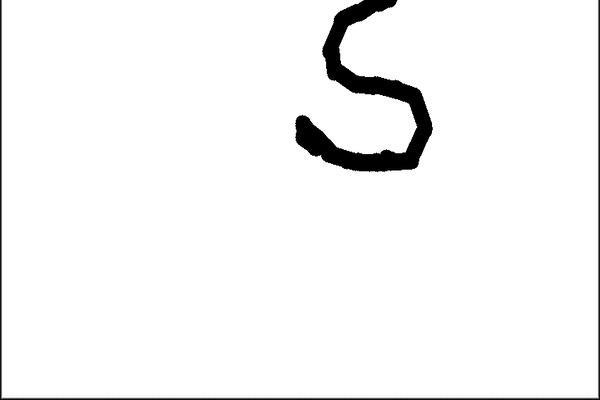S: (281, 0, 445, 181)
